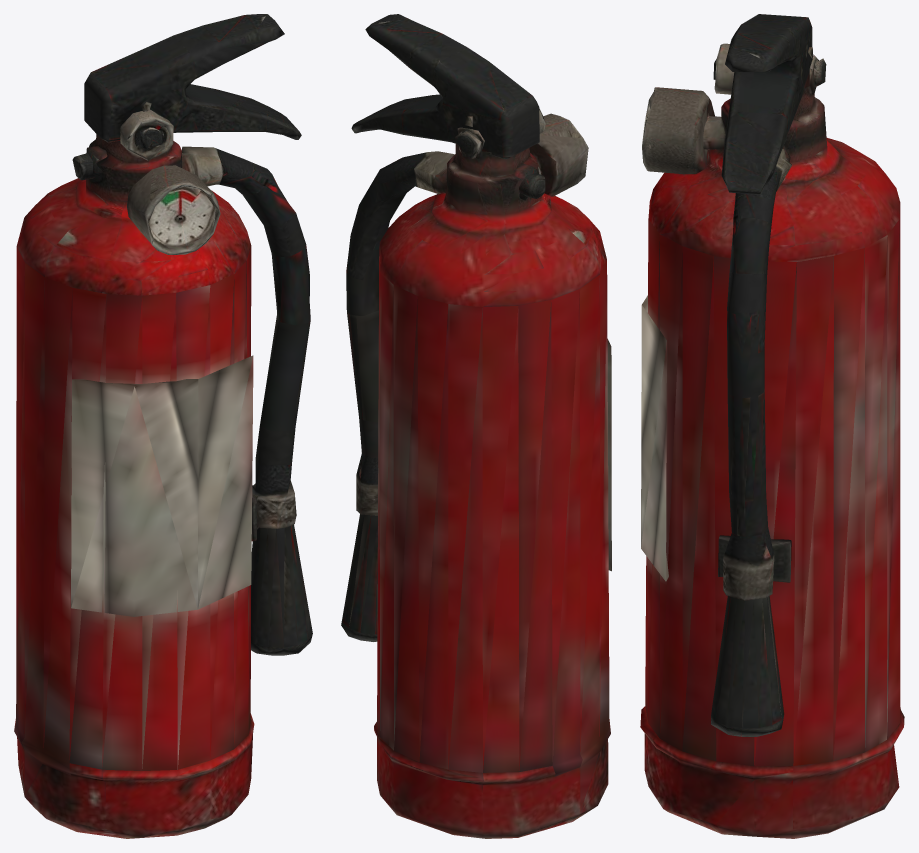
File: p7-fire-extinguisher-t25.glb
3 views of the same model, side by side, from view 1: azimuth 30°, elevation 25°; view 2: azimuth 150°, elevation 25°; view 3: azimuth 270°, elevation 25° (orthographic). The views are drawn at different scales.
Visible parts, largest first — view 1: p7-fire-extinguisher-t25; view 2: p7-fire-extinguisher-t25; view 3: p7-fire-extinguisher-t25.
Boxes of the visible parts, <box> form: p7-fire-extinguisher-t25: <box>14,14,312,838</box>; p7-fire-extinguisher-t25: <box>341,14,611,838</box>; p7-fire-extinguisher-t25: <box>640,14,904,838</box>.
Size of the model in its own units: 0.22 by 0.6 by 0.18.
Materials: 1 (1 with a texture image).
